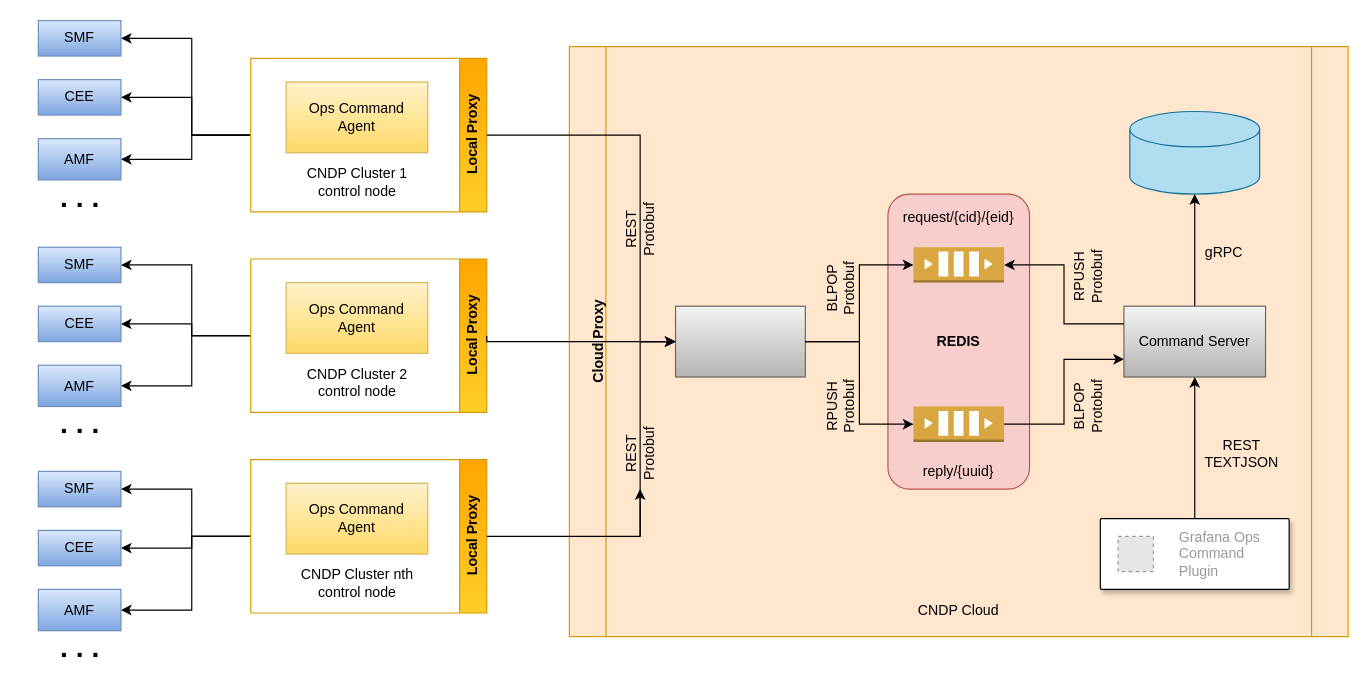
This 1369x686 diagram has some shape labels left out. Grey dashed boxes stand in for pictures. The shapes that lost their labels are listed below. From the top down, each one's centre as x and y in pixels, then its label:
point 1194,152: Config DB
point 739,341: Command Proxy
